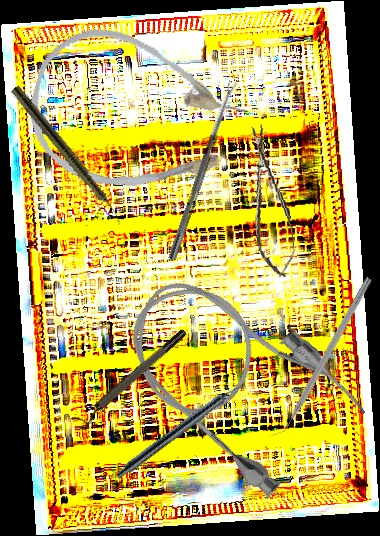Cannula: (101, 245, 376, 510), (13, 13, 259, 219)
Chopper: (267, 272, 373, 443)
Fixation Ring: (70, 326, 193, 434)
Handpiece: (8, 84, 128, 227), (114, 377, 248, 483)
Micro Scissor: (243, 121, 298, 281)
Surgical Spoon: (168, 80, 238, 261)
